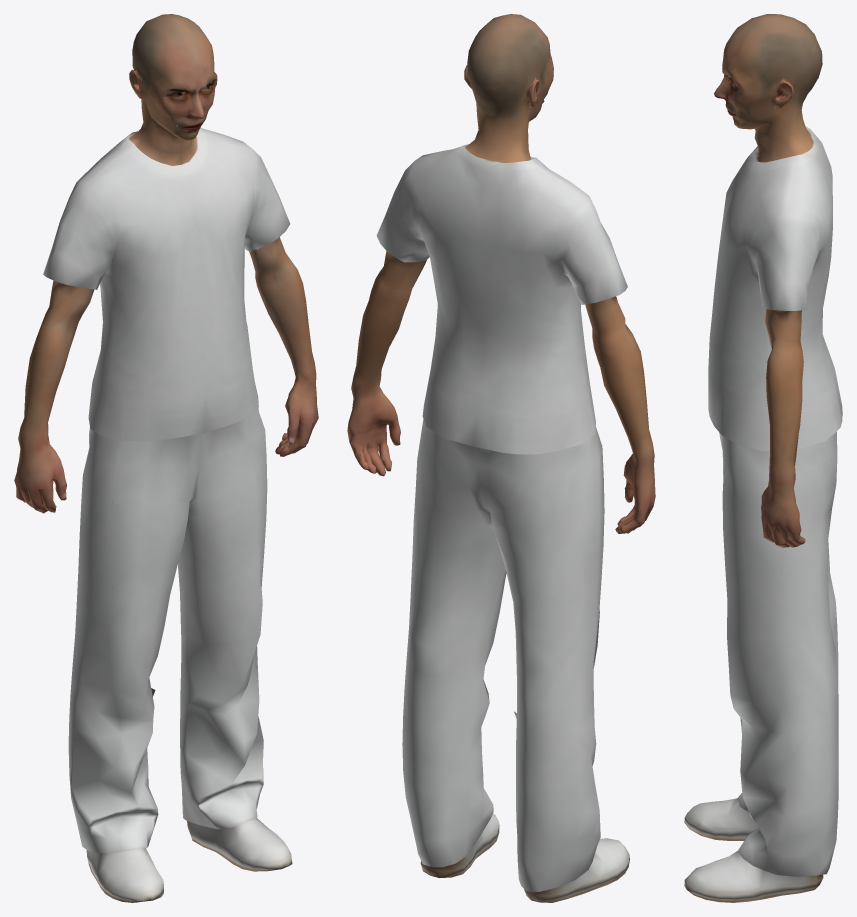
Rendered from псих человек без аним.glb.
3 renders of one model, left to right at view 1: azimuth 30°, elevation 25°; view 2: azimuth 150°, elevation 25°; view 3: azimuth 270°, elevation 25°, orthographic.
Parts seen in each view (by area): view 1: geometry_0; view 2: geometry_0; view 3: geometry_0.
Part boxes in pixels (x1=…): geometry_0: x1=14, y1=14, x2=318, y2=902; geometry_0: x1=347, y1=14, x2=655, y2=902; geometry_0: x1=684, y1=14, x2=842, y2=902.
Size of the model in its own units: 0.3511 by 0.9502 by 0.1616.
1 material, 1 textured.
